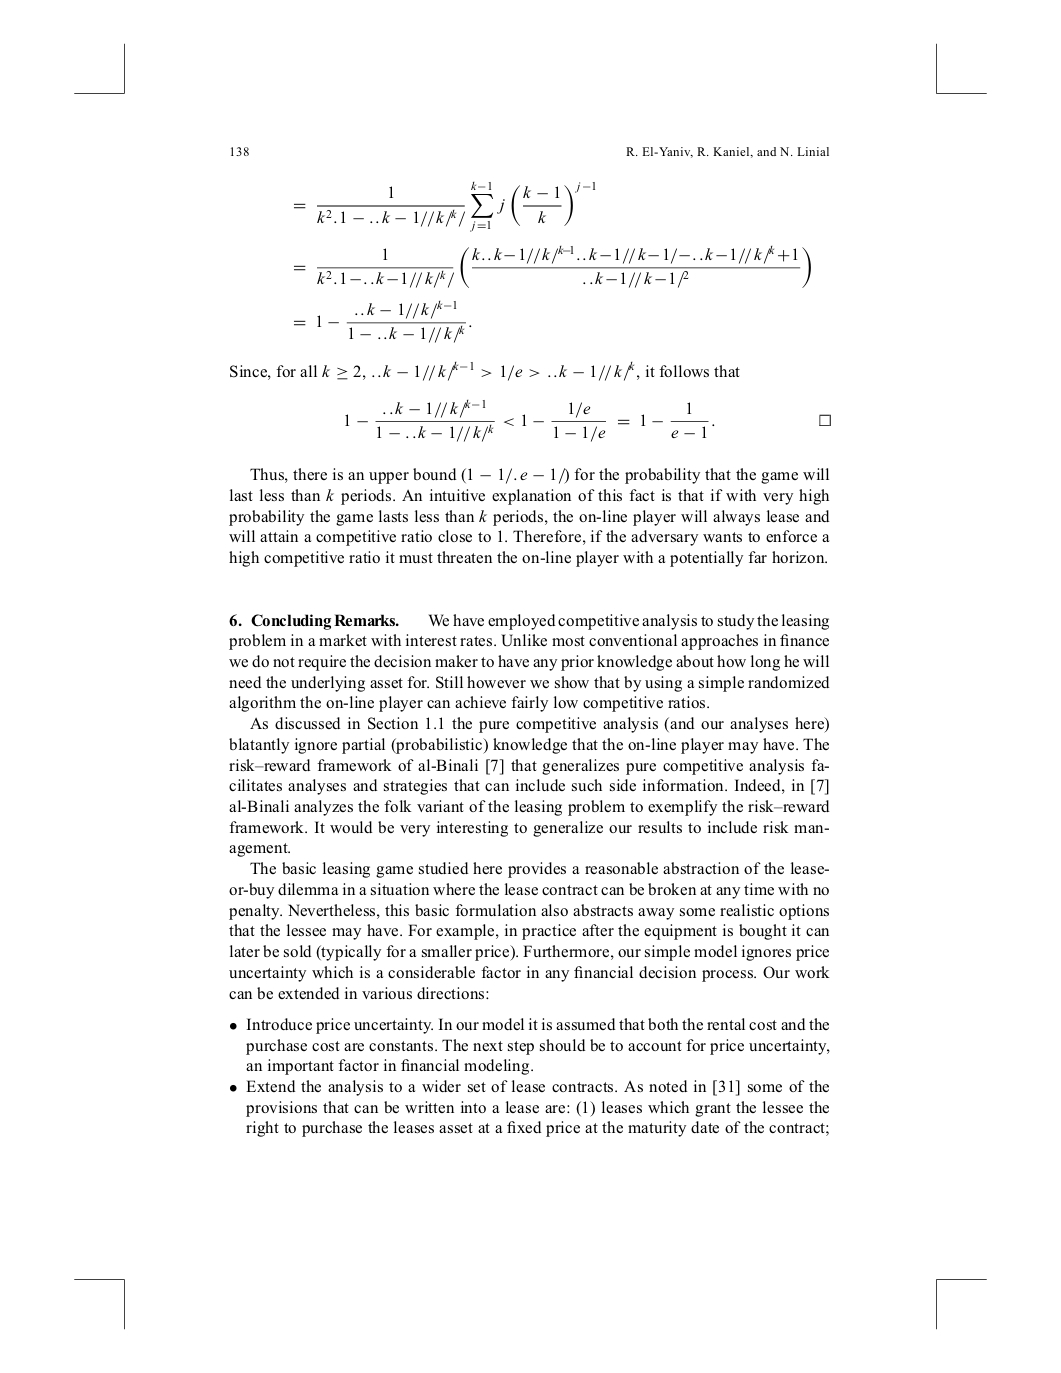formula: (294, 244, 810, 288), (345, 398, 830, 442), (294, 181, 595, 232), (294, 299, 471, 343)
